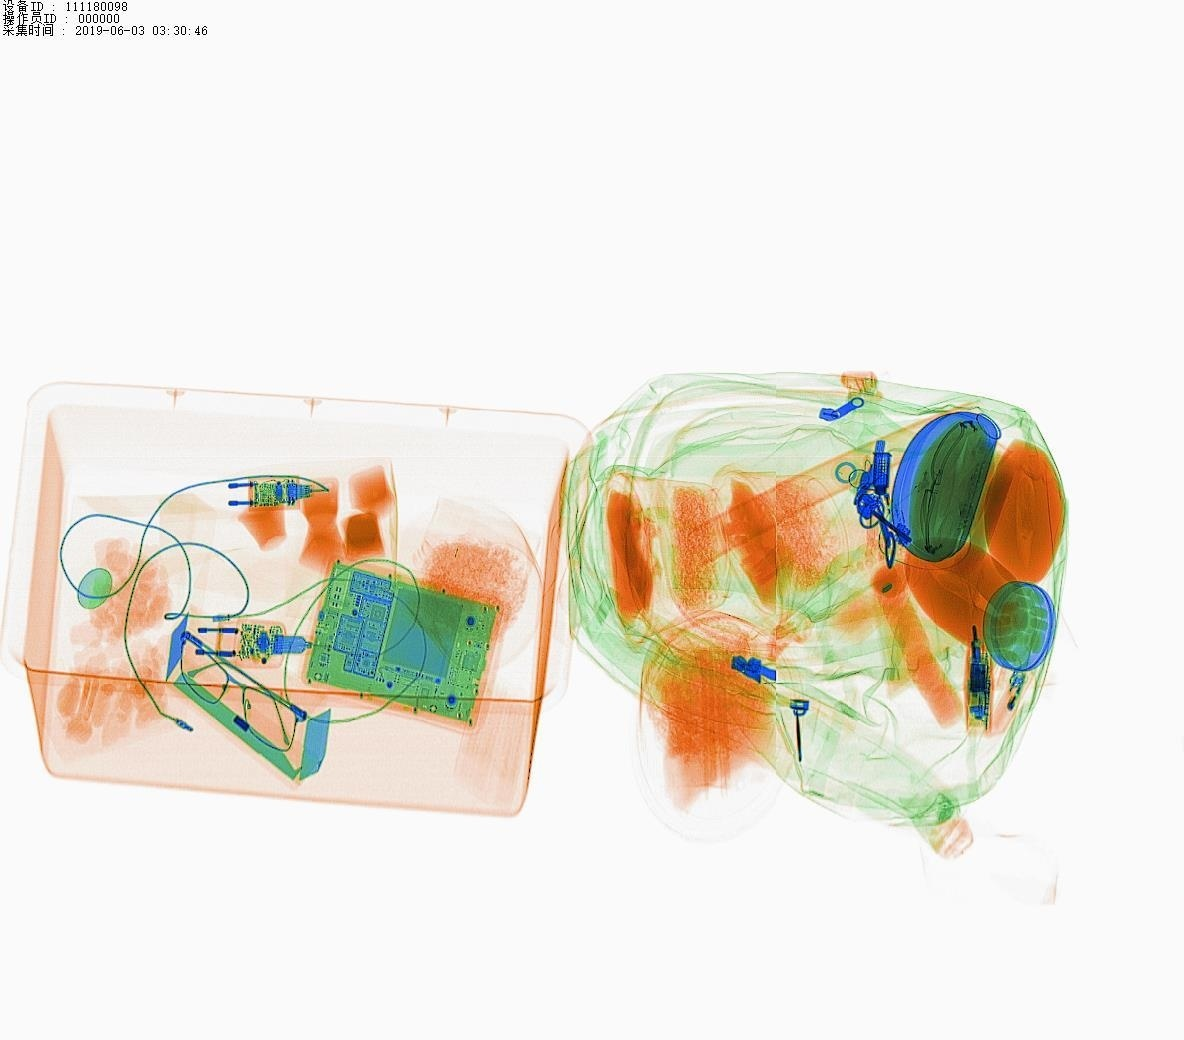NonmetallicFire: (976, 652, 1042, 747), (867, 464, 923, 555)
